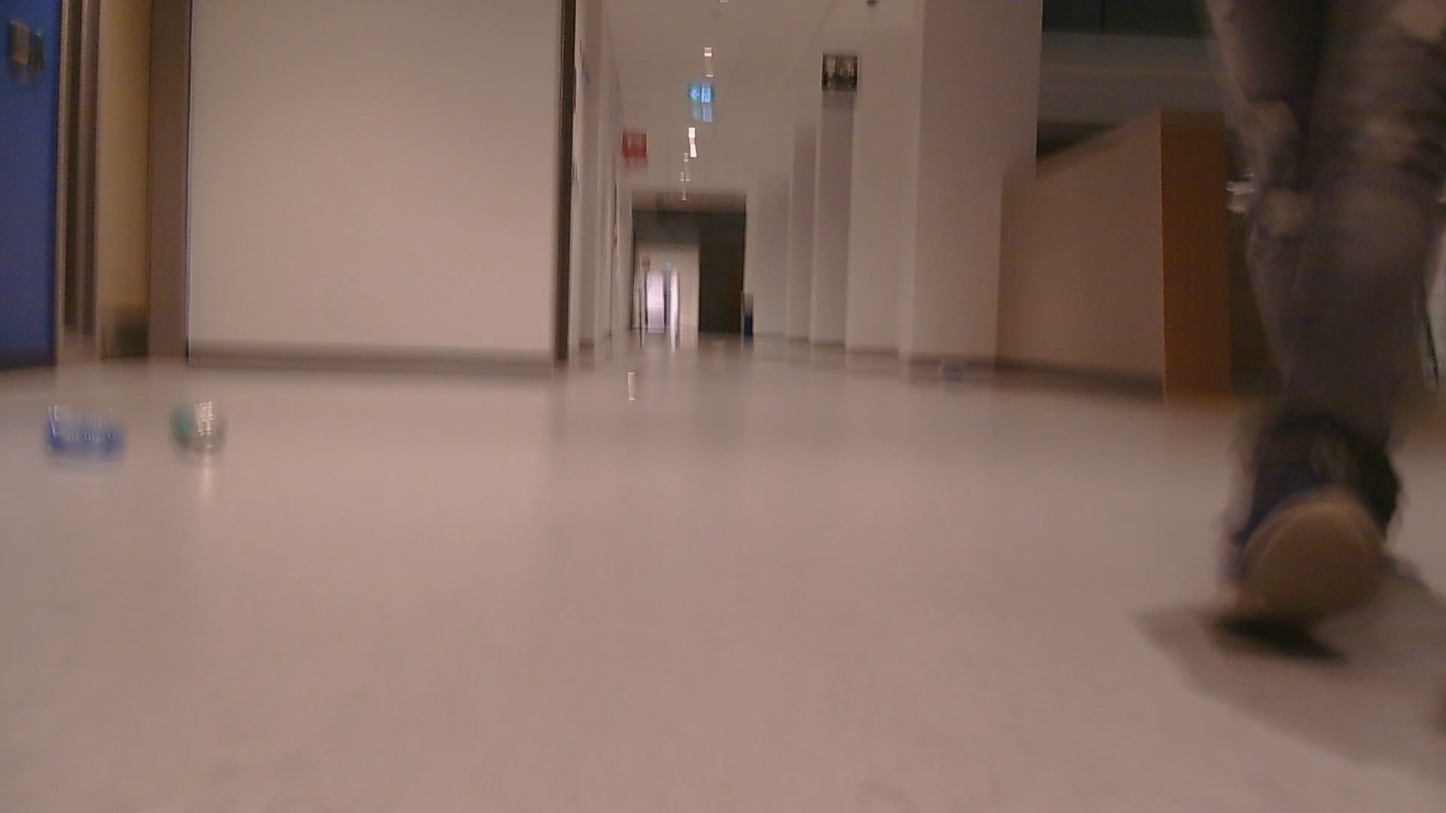carton: (35, 391, 146, 475), (161, 390, 243, 468)
